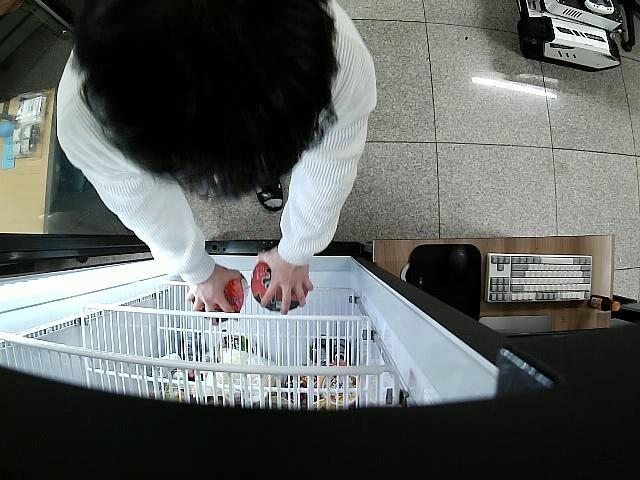01_ShinRamen_L: (188, 271, 250, 324), (252, 262, 307, 313)
